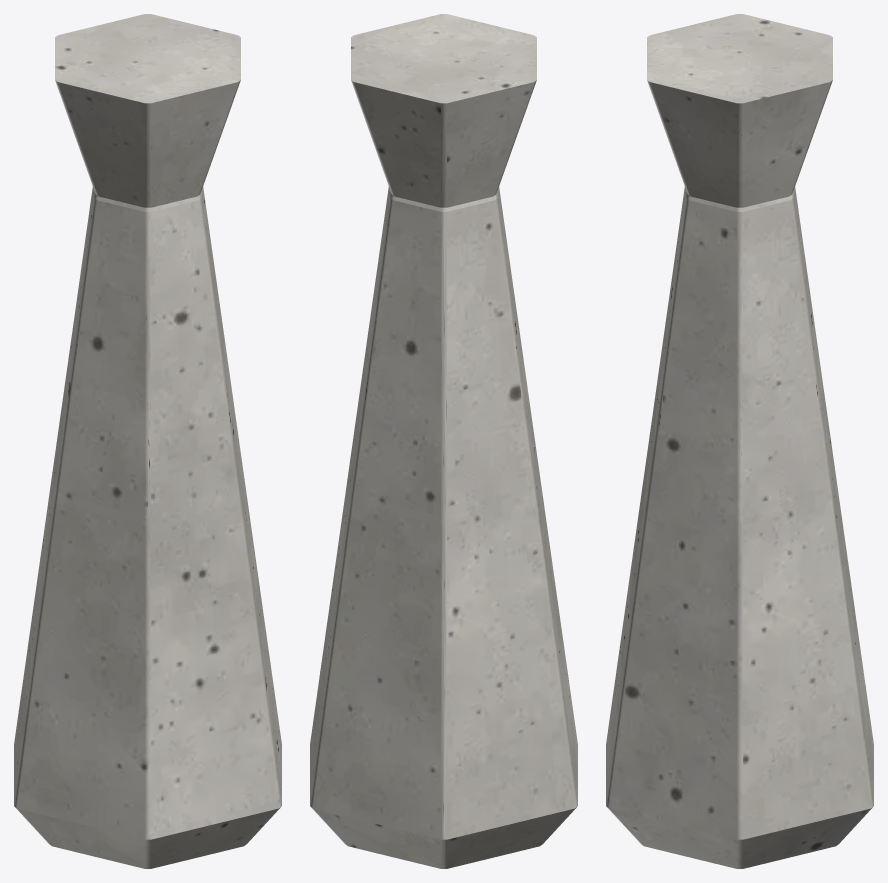
File: hexalith_white_queen.glb
3 views of the same model, side by side, from view 1: azimuth 30°, elevation 25°; view 2: azimuth 150°, elevation 25°; view 3: azimuth 270°, elevation 25° (orthographic).
Visible parts, largest first — view 1: HEXALITH_white_queen; view 2: HEXALITH_white_queen; view 3: HEXALITH_white_queen.
Boxes of the visible parts, x1,y1,x2,y2 form: HEXALITH_white_queen: (14,14,281,868); HEXALITH_white_queen: (310,14,577,868); HEXALITH_white_queen: (606,14,873,868).
Bounding box in the file's own units: 0.0307 × 0.0844 × 0.0268.
Materials: 1 (1 with a texture image).
